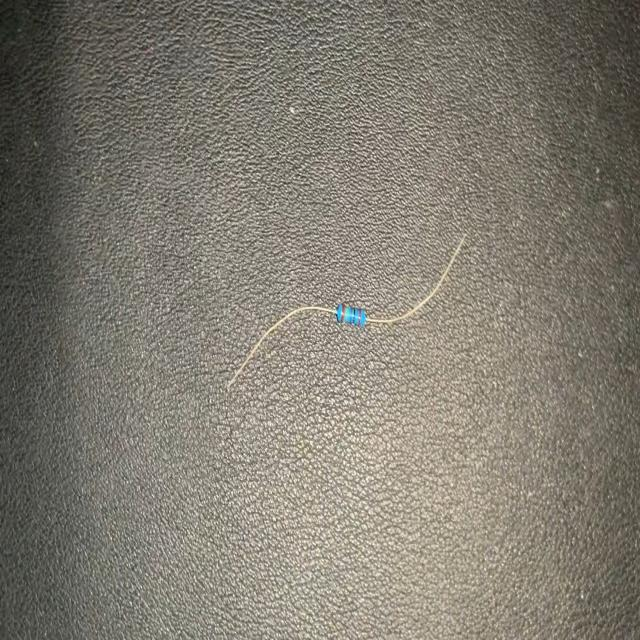resistor: (231, 236, 471, 391)
